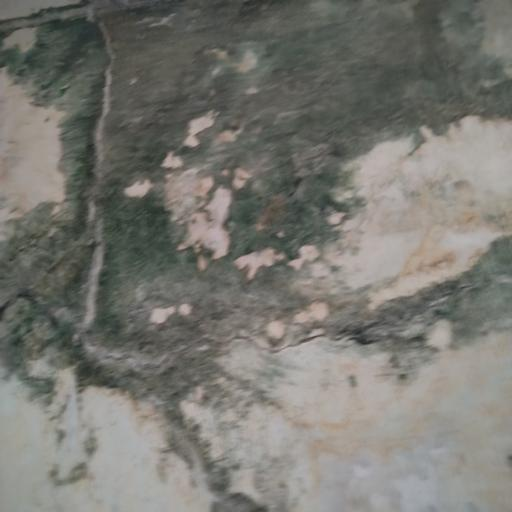algae: (0, 0, 485, 421)
